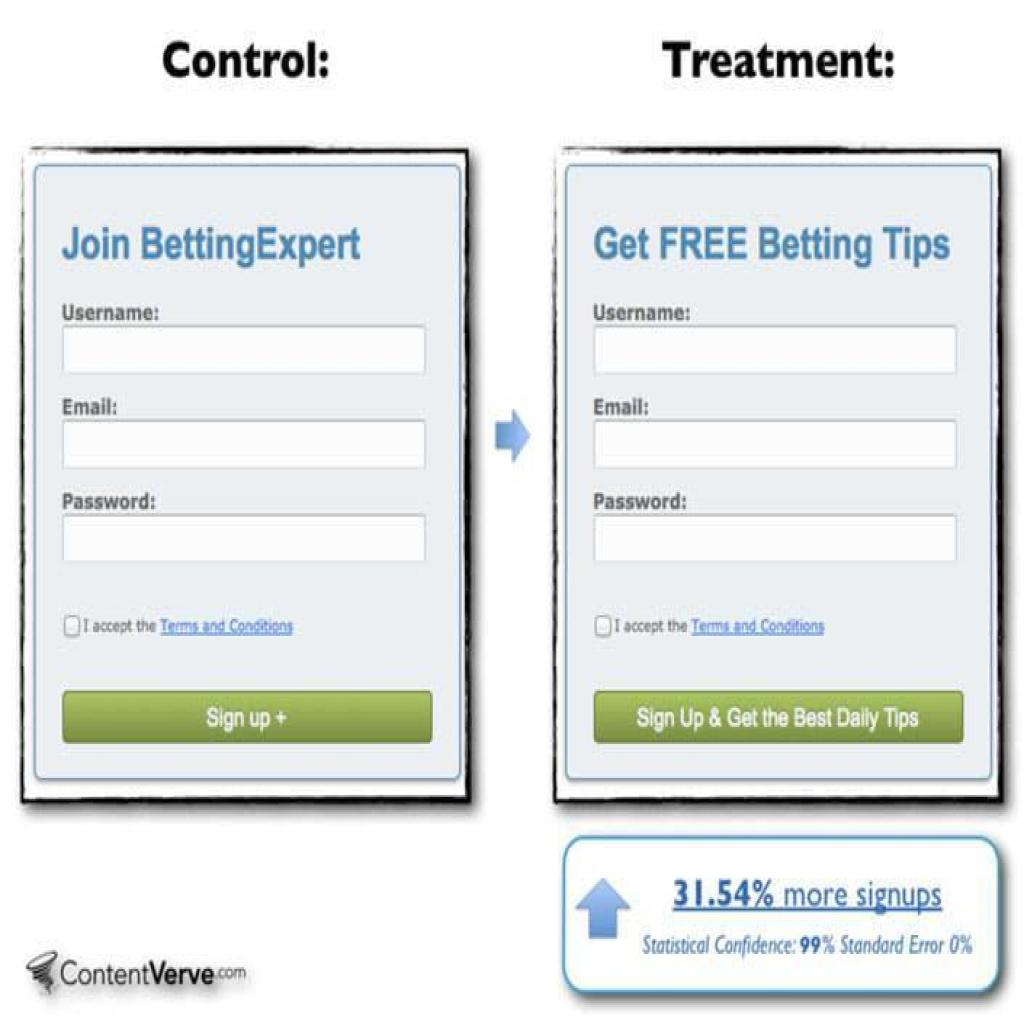button: (591, 691, 966, 744), (59, 689, 433, 742)
checkbox: (62, 613, 83, 640), (594, 613, 613, 640)
input: (65, 515, 427, 566), (62, 420, 426, 470), (64, 326, 425, 376), (594, 513, 956, 562), (592, 326, 958, 374), (594, 422, 957, 468)
label: (83, 611, 298, 640), (613, 615, 826, 636), (587, 485, 690, 513), (58, 297, 161, 324), (590, 297, 694, 322), (58, 487, 157, 511), (60, 390, 122, 418), (591, 392, 649, 416)
